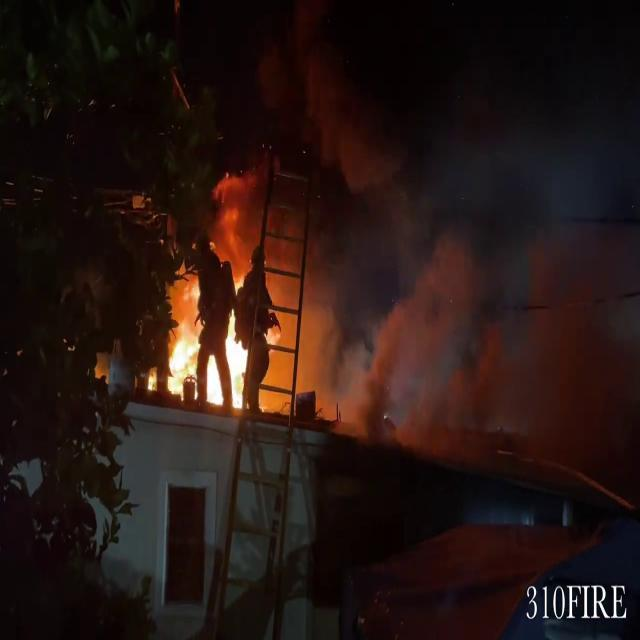Fire: (140, 295, 258, 417)
Smoke: (249, 1, 638, 444)
